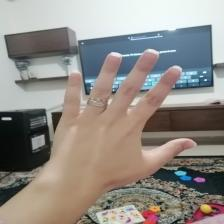five: (54, 47, 204, 186)
